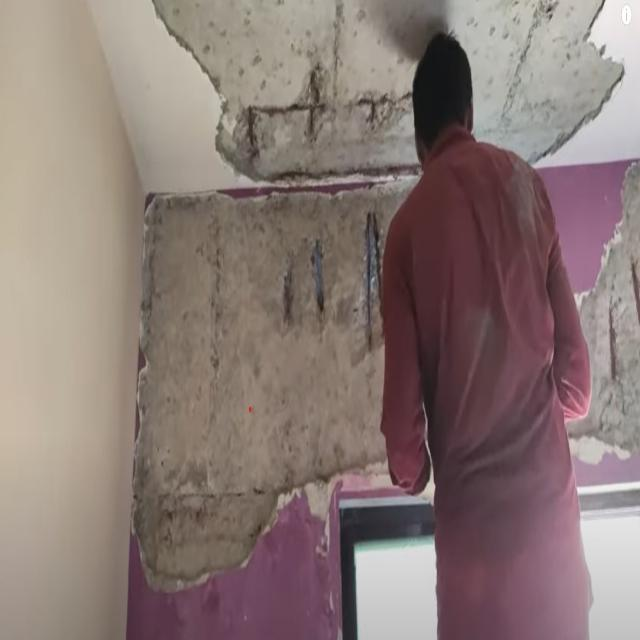Spalling: (130, 182, 640, 607), (134, 0, 636, 171)
